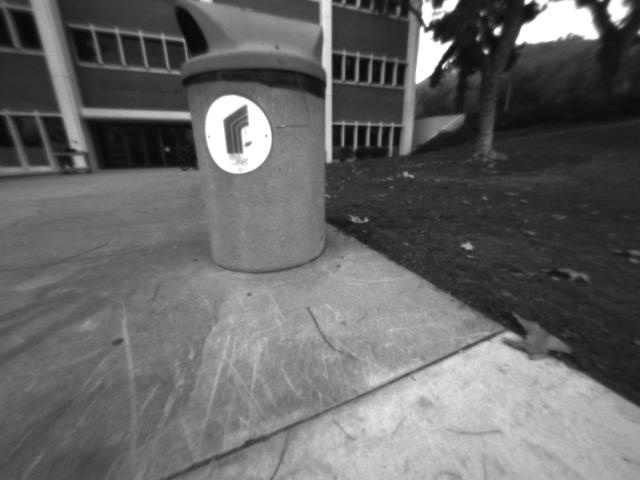trashcan: (159, 3, 347, 279)
